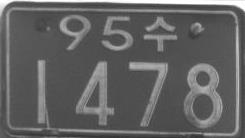1: (23, 59, 59, 123)
4: (74, 60, 114, 125), (100, 15, 134, 51)
7: (128, 60, 168, 127)
8: (182, 62, 223, 129)
9: (59, 14, 92, 49)
수: (143, 16, 177, 52)
